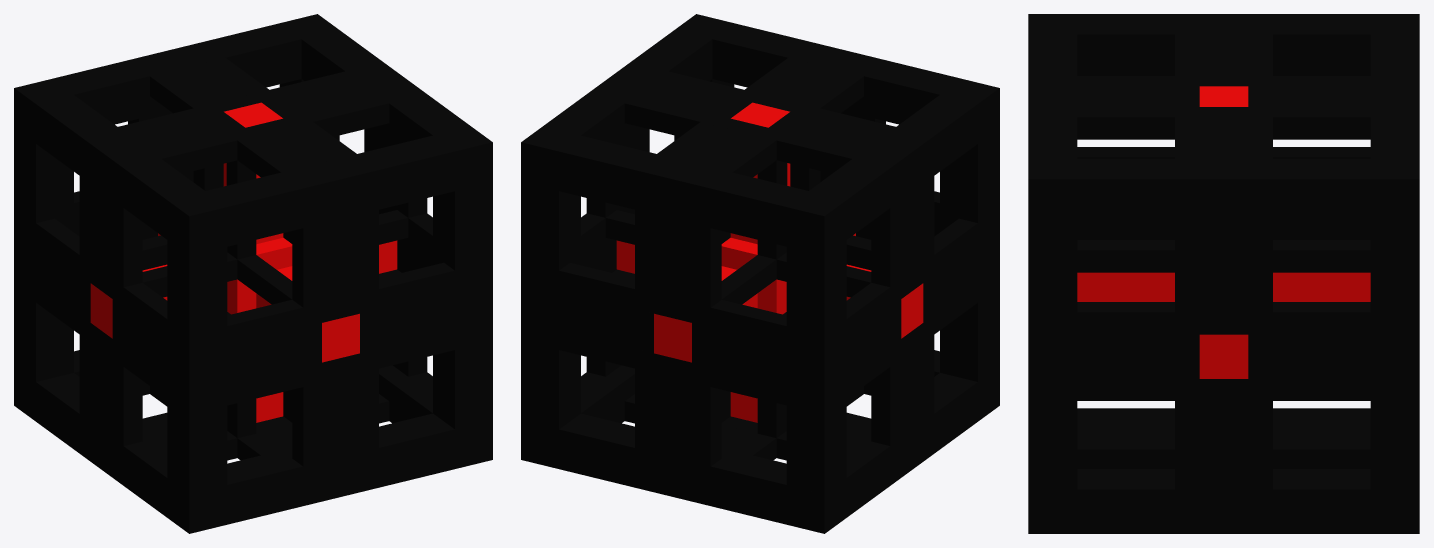
Rendered from redcraftedblock.obj.
3 renders of one model, left to right at view 1: azimuth 30°, elevation 25°; view 2: azimuth 150°, elevation 25°; view 3: azimuth 270°, elevation 25°, orthographic. The views are drawn at different scales.
Parts seen in each view (by area): view 1: bb_main, cube_r39, cube_r38, cube_r28, cube_r29, cube_r4, bone48, cube_r21, cube_r3, cube_r14, cube_r22, cube_r8 (+16 smaller); view 2: bb_main, cube_r39, cube_r38, cube_r2, cube_r25, bone48, cube_r21, cube_r1, cube_r24, cube_r13, cube_r22, cube_r8 (+17 smaller); view 3: bb_main, cube_r39, cube_r6, cube_r38, cube_r10, bone48, cube_r5, cube_r16, cube_r12, cube_r15, cube_r23, cube_r9 (+14 smaller).
Part boxes in pixels (x1,y1,x2,y2): bb_main: (14,14,492,533); cube_r39: (14,79,492,494); cube_r38: (52,23,454,524); cube_r28: (142,210,378,457); cube_r29: (292,219,340,466); cube_r4: (227,262,454,365); bone48: (90,102,397,422); cube_r21: (79,238,408,445); cube_r3: (227,310,454,405); cube_r14: (140,87,389,173); cube_r22: (79,176,142,287); cube_r8: (36,218,167,358); bb_main: (521,14,999,533); cube_r39: (521,79,999,494); cube_r38: (559,23,961,524); cube_r2: (559,174,828,382); cube_r25: (673,219,721,466); bone48: (616,102,923,422); cube_r21: (605,238,934,445); cube_r1: (559,310,786,405); cube_r24: (635,210,672,457); cube_r13: (624,87,873,173); cube_r22: (871,176,934,287); cube_r8: (846,218,977,358); bb_main: (1028,14,1419,533); cube_r39: (1028,223,1419,489); cube_r6: (1077,302,1370,400); cube_r38: (1028,34,1419,158); cube_r10: (1077,76,1370,139); bone48: (1077,86,1370,378); cube_r5: (1077,356,1370,400); cube_r16: (1175,223,1272,312); cube_r12: (1077,429,1370,468); cube_r15: (1224,401,1272,489); cube_r23: (1175,401,1223,489); cube_r9: (1077,76,1370,96).
Bounding box in the file's own units: 1 × 1 × 1.
